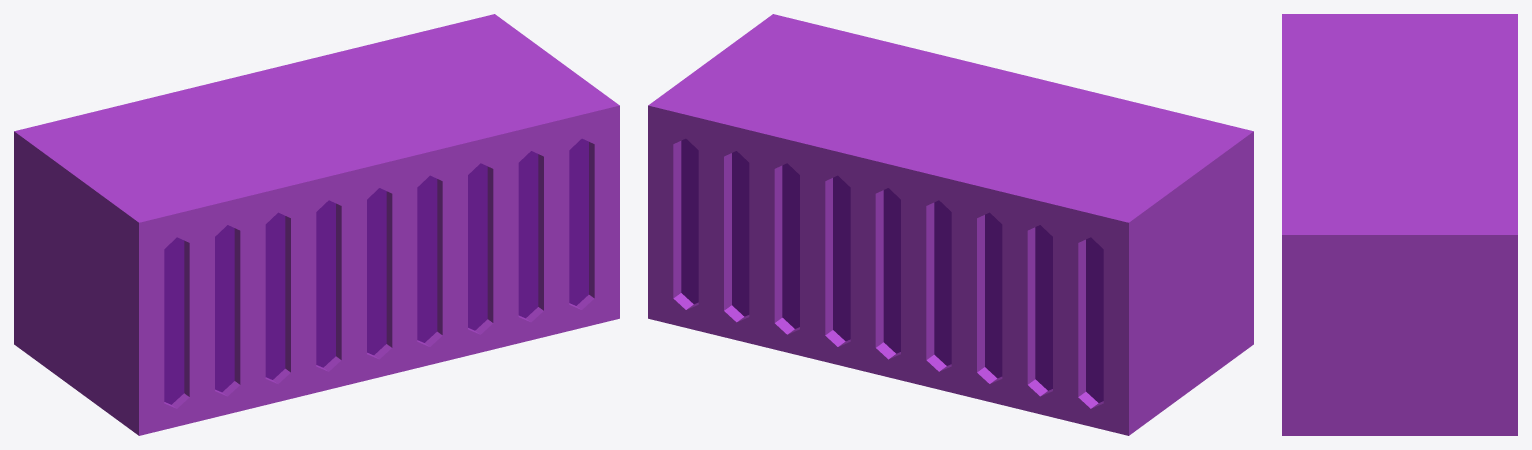
The picture shows the model from 3 angles, left to right: view 1: azimuth 30°, elevation 25°; view 2: azimuth 150°, elevation 25°; view 3: azimuth 270°, elevation 25°; orthographic projection. The views are drawn at different scales.
Parts seen in each view (by area): view 1: Box001; view 2: Box001; view 3: Box001.
Boxes of the visible parts, box(x1,y1,x2,y2) form: Box001: box(14, 14, 619, 435); Box001: box(648, 14, 1253, 435); Box001: box(1282, 14, 1517, 435).
Bounding box in the file's own units: 114 × 48.16 × 51.2.
